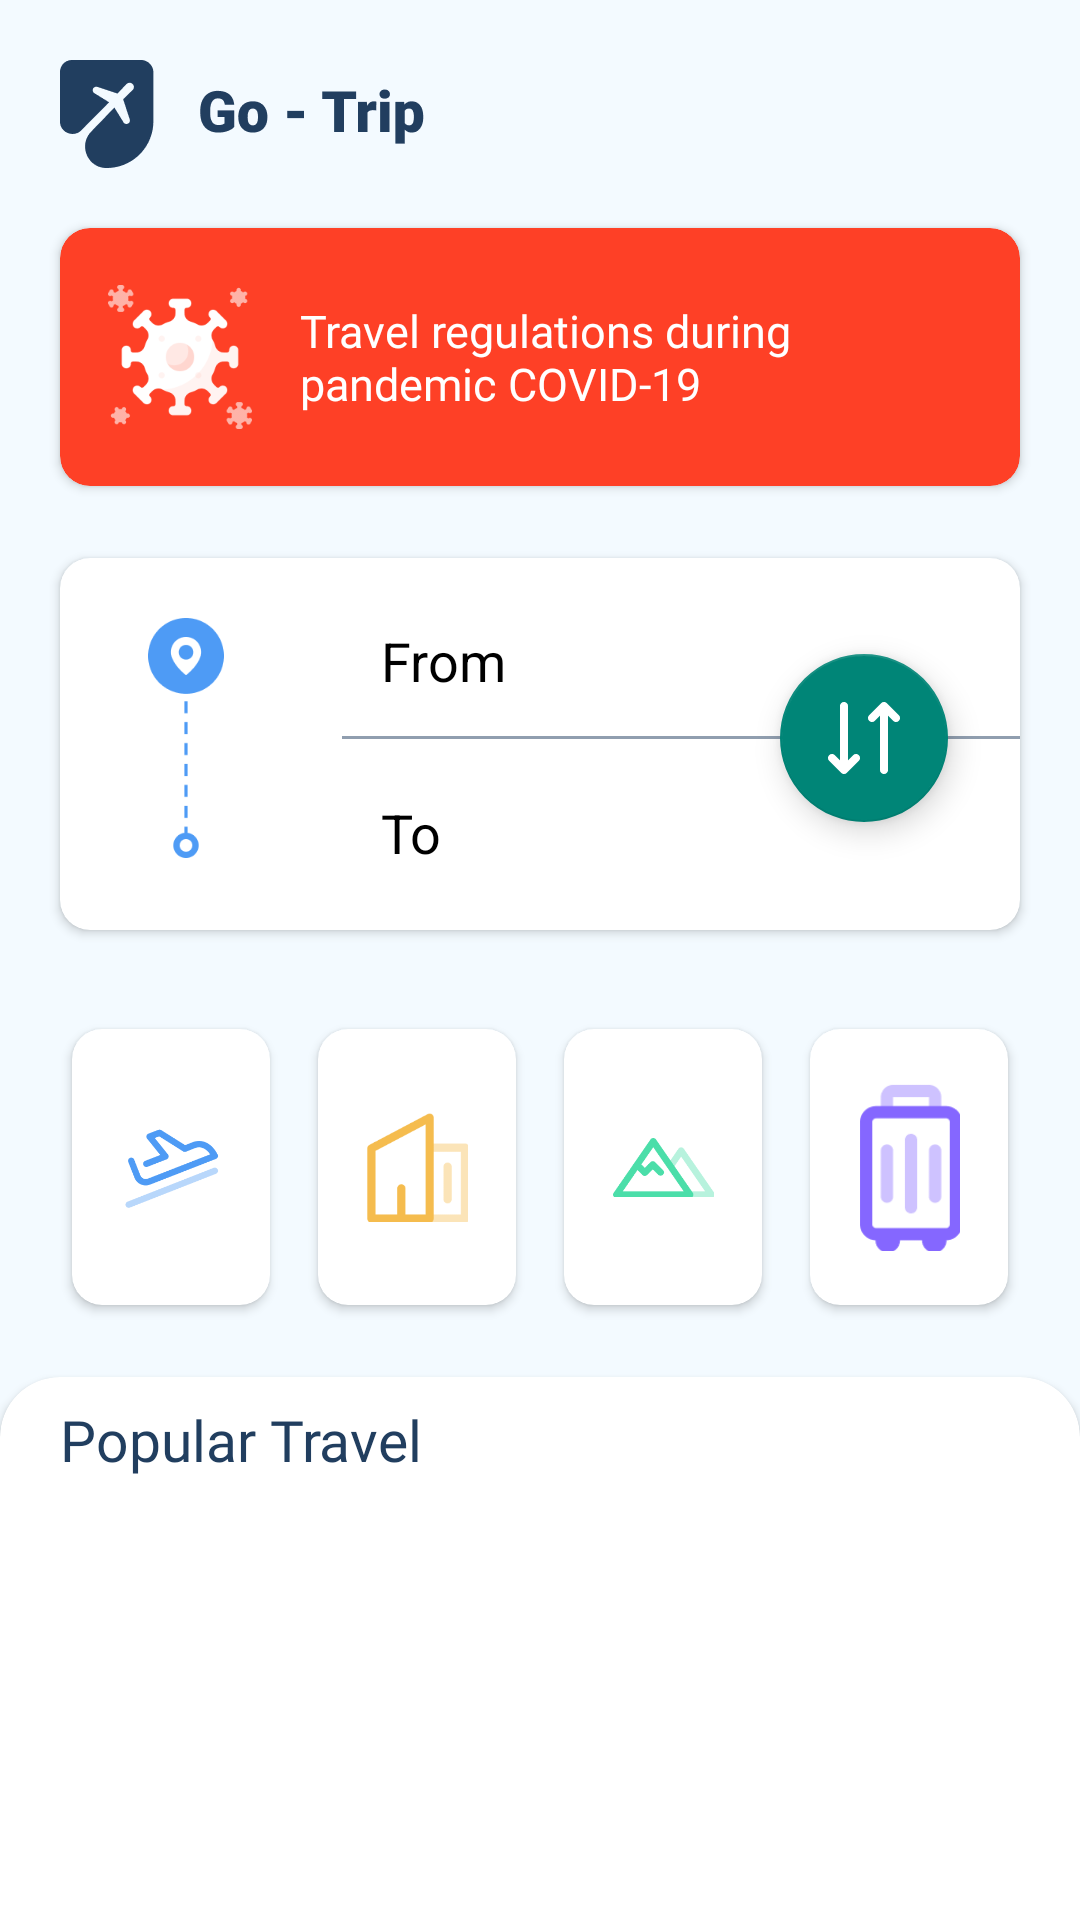

Icons on this 1080 × 1920 Android screen, each with its box as (x1, y1, x2, y2):
coronavirus: (108, 285, 252, 429)
destination: (613, 1138, 714, 1197)
hotel: (367, 1113, 468, 1222)
koper: (860, 1085, 960, 1251)
location: (148, 618, 224, 858)
plane: (125, 1129, 218, 1208)
